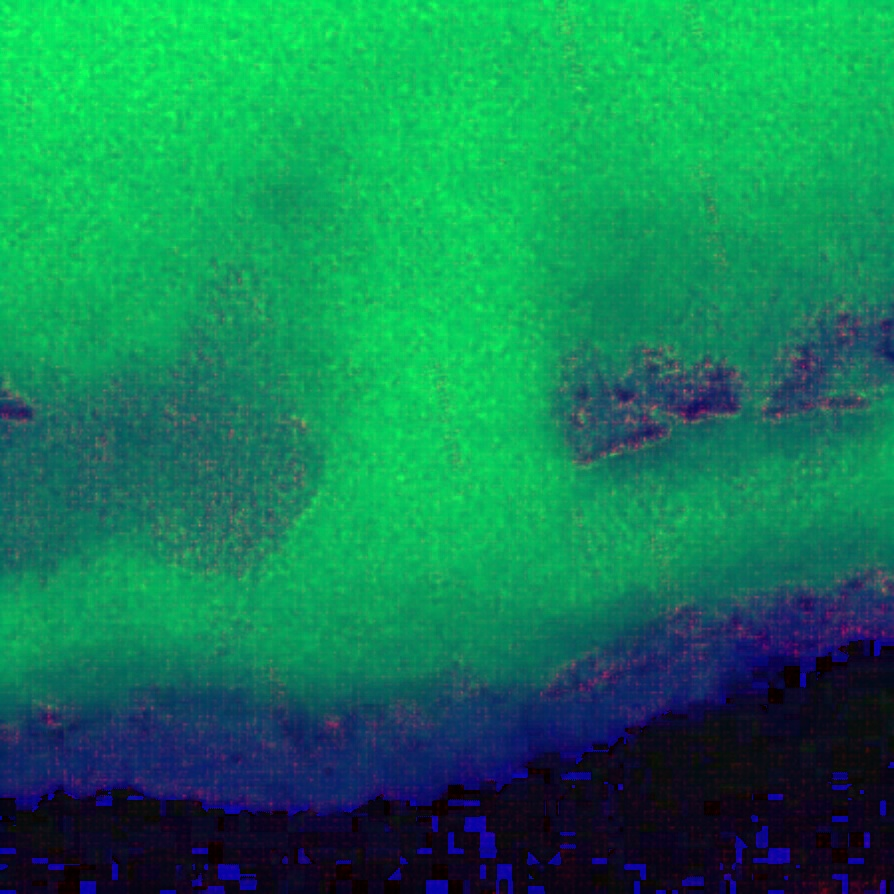rip_current: (187, 150, 676, 655)
